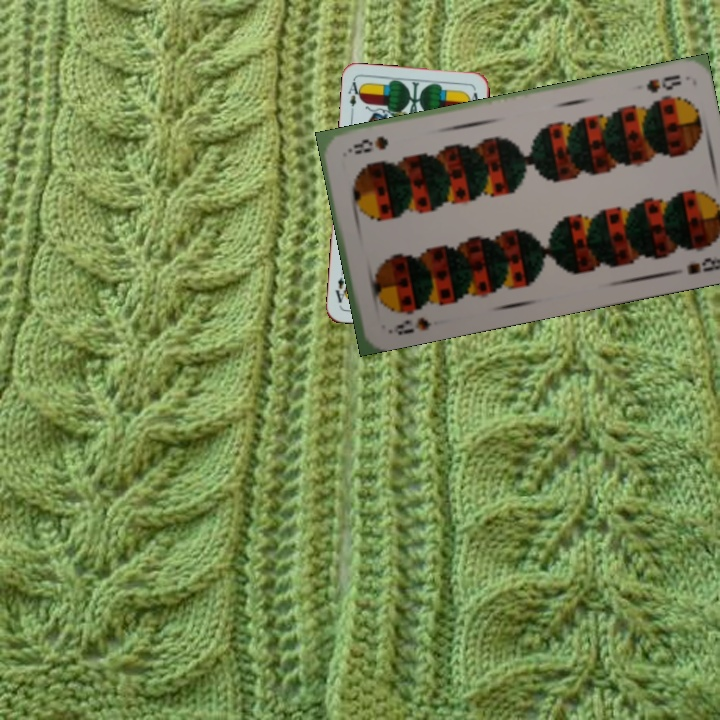EA: (344, 77, 364, 118)
S8: (383, 313, 434, 338), (642, 70, 685, 96)
